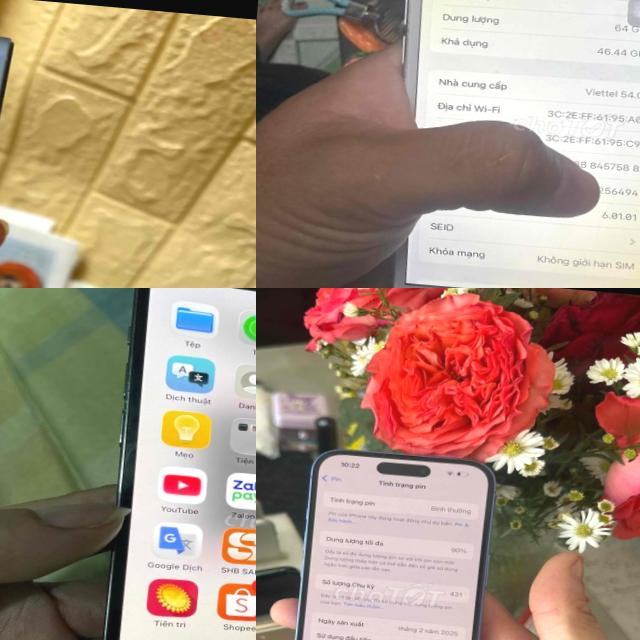gen_12_13: (79, 288, 256, 640)
gen_16: (295, 450, 494, 640)
gen_7_8: (361, 0, 640, 288)
